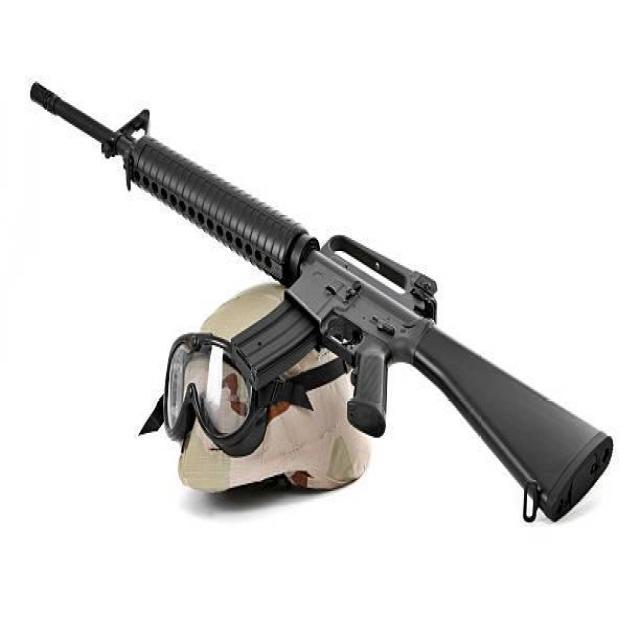weapon: (28, 78, 614, 526)
